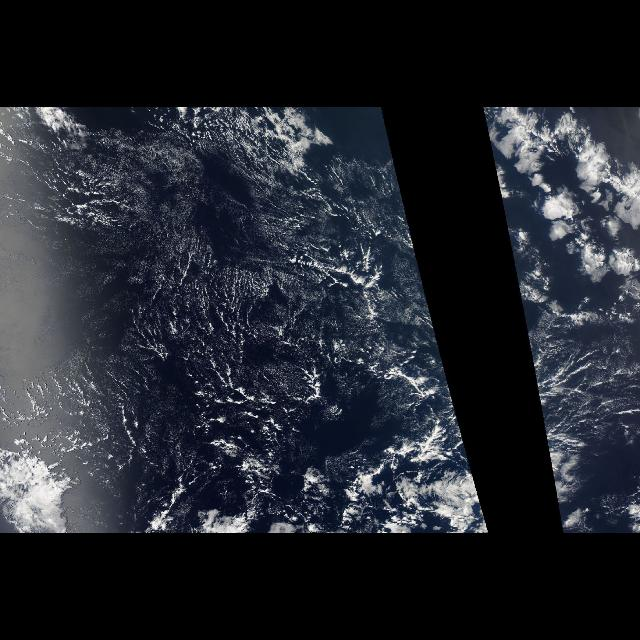Gravel: (15, 128, 395, 466)
Sugar: (9, 116, 388, 430), (482, 109, 640, 343)
